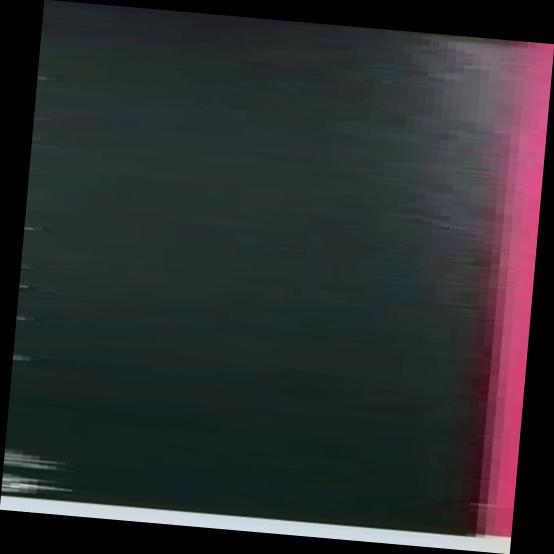book: (1, 1, 554, 554)
